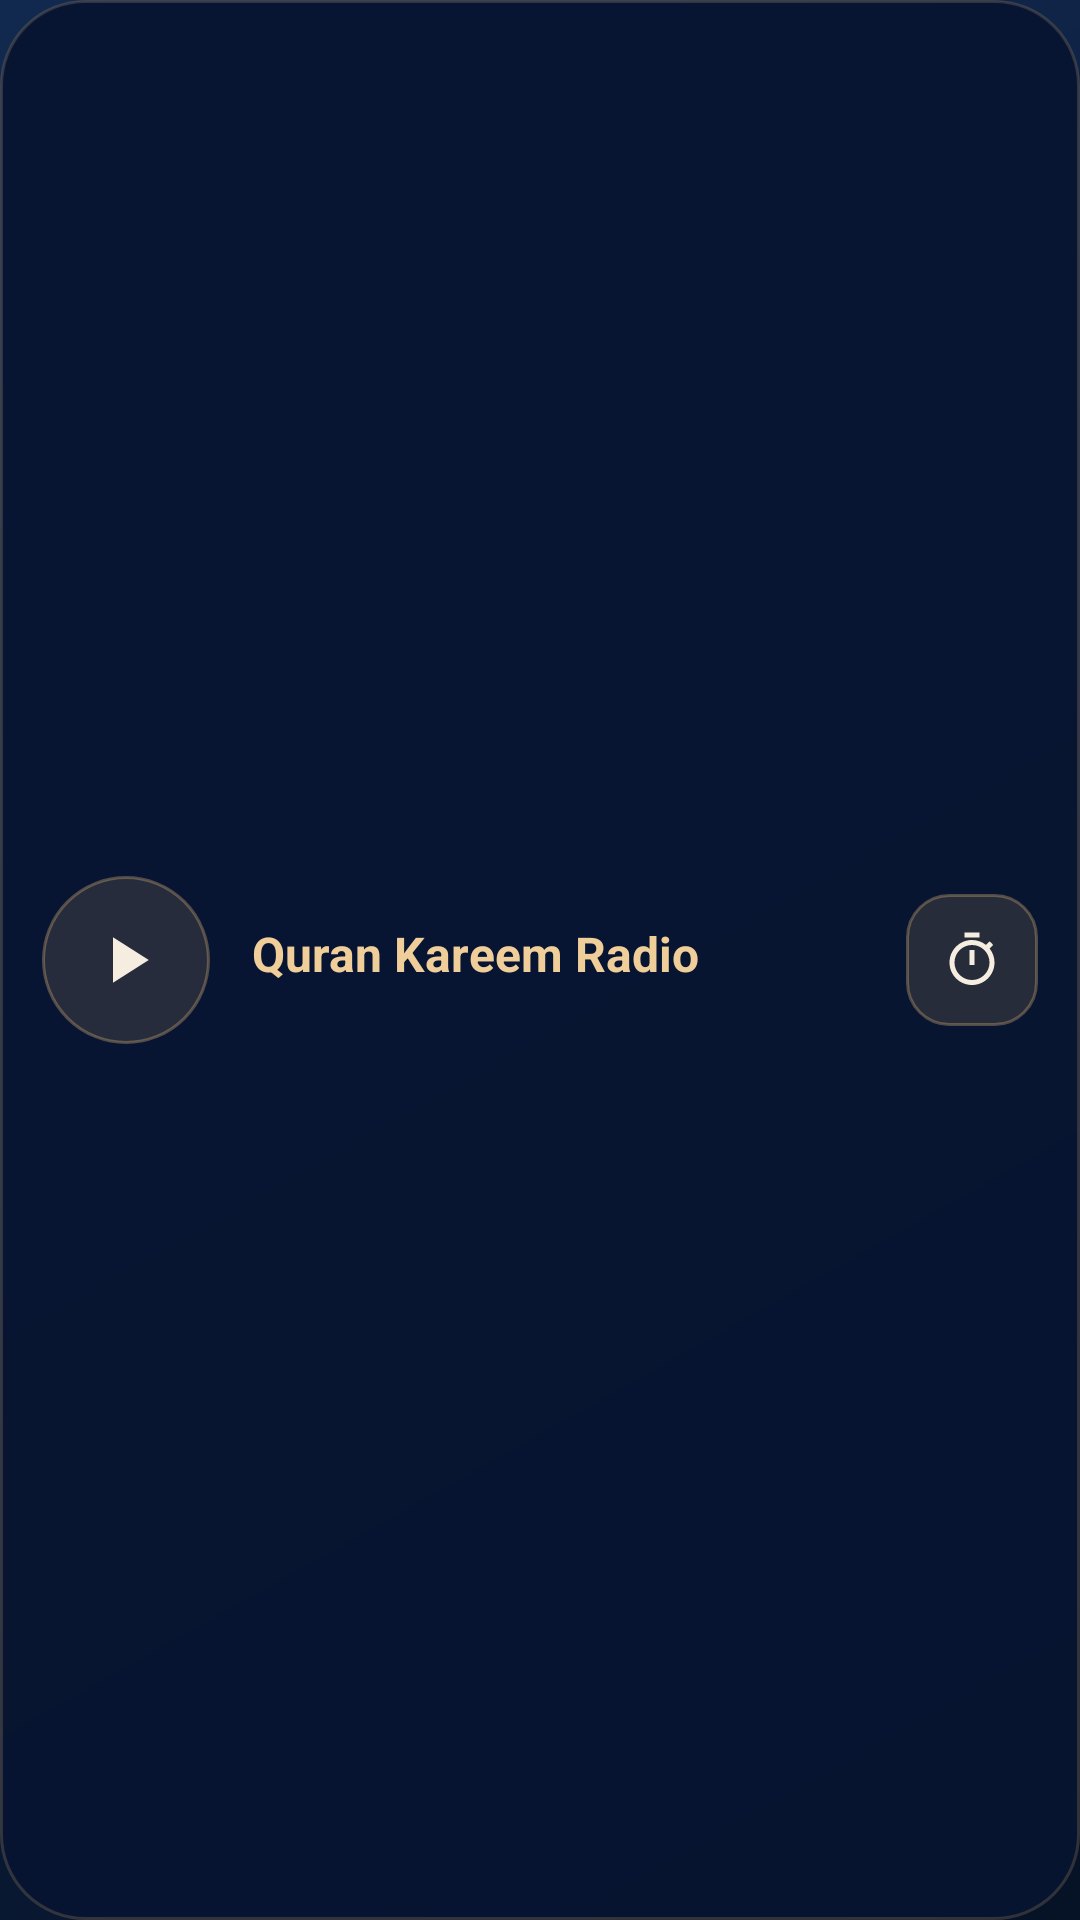

Screen size 1080px x 1920px. Icon name, then its center in pixels as point (x, y):
Play: point (126, 960)
Sleep Timer: point (972, 958)
